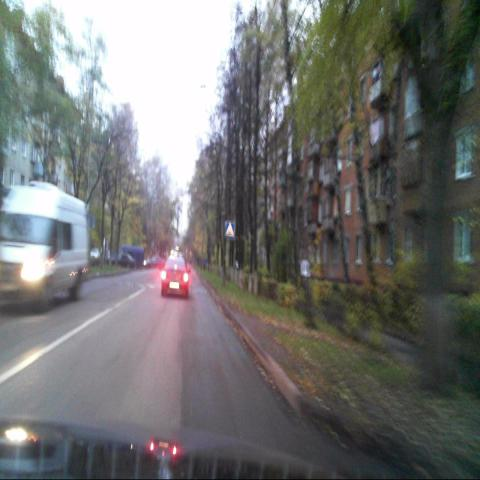5_20: (225, 221, 234, 237)
